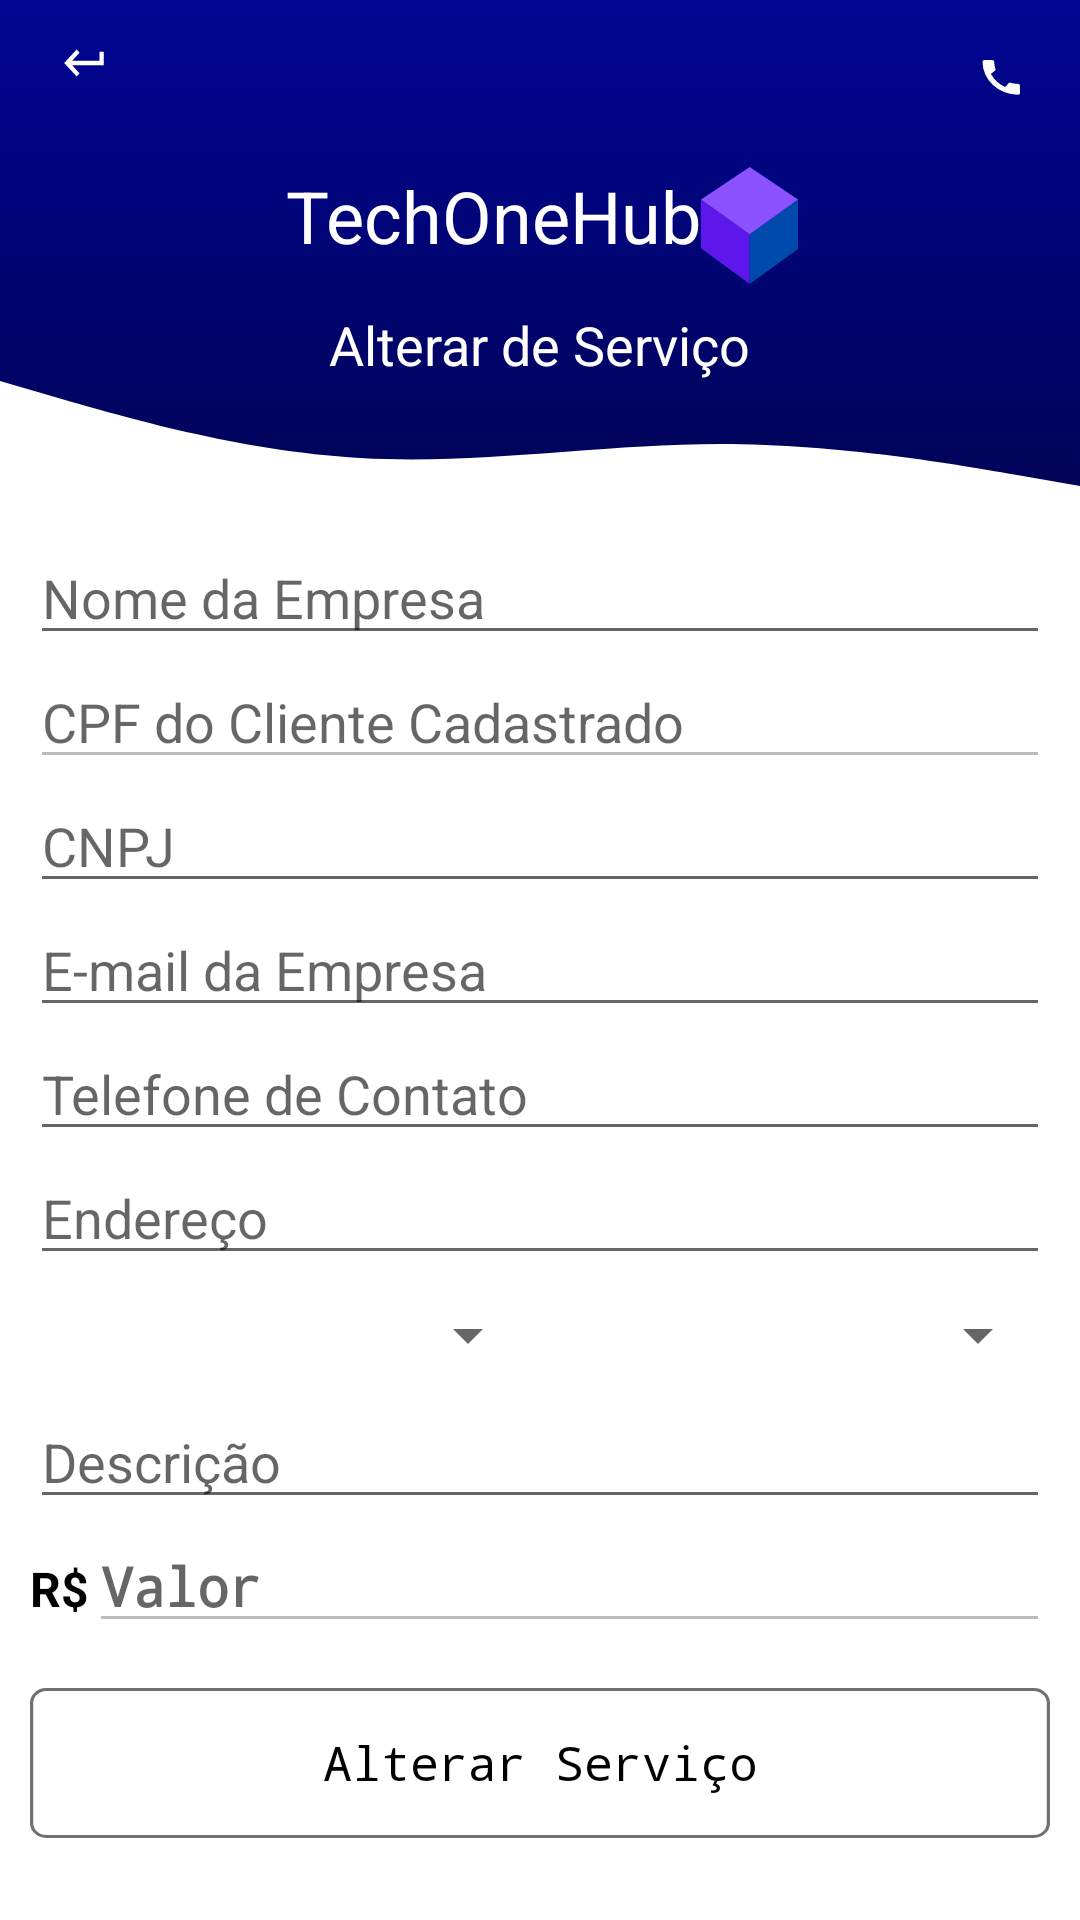

Where icons sit on this 1080x1920 app screen, as (x1, y1, x2, y2):
back: (64, 49, 104, 77)
call: (982, 60, 1020, 95)
